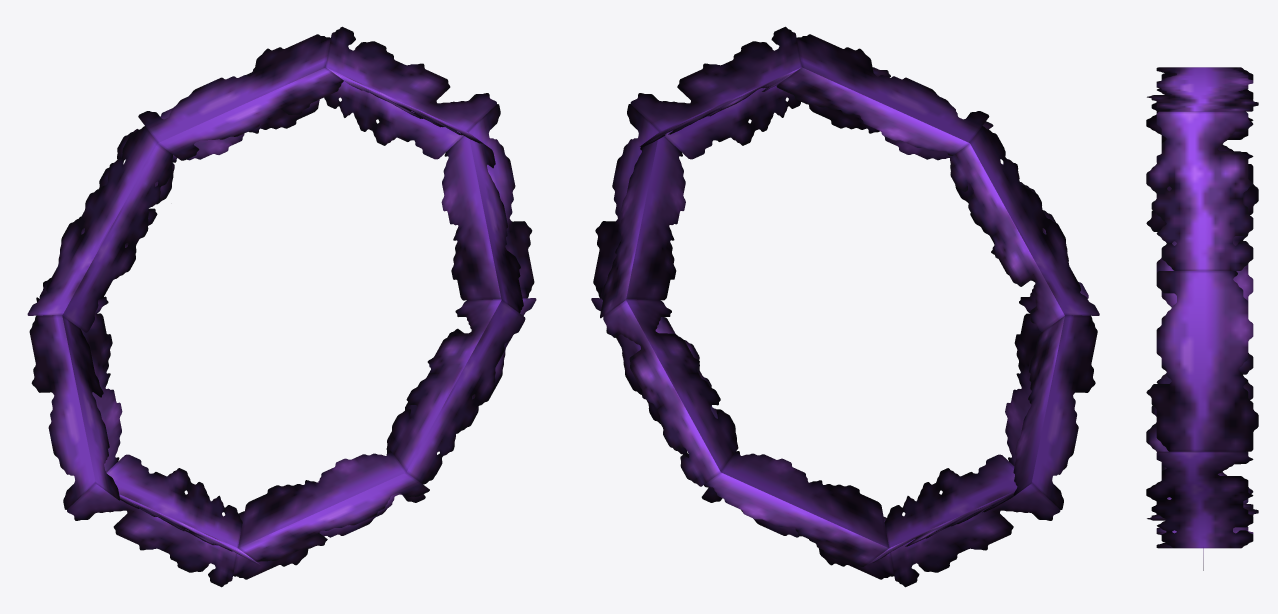
The picture shows the model from 3 angles, left to right: view 1: azimuth 30°, elevation 25°; view 2: azimuth 150°, elevation 25°; view 3: azimuth 270°, elevation 25°; orthographic projection. The views are drawn at different scales.
Visible parts, largest first — view 1: T1L4M007_16; view 2: T1L4M007_16; view 3: T1L4M007_16.
Boxes of the visible parts, <box> form: T1L4M007_16: <box>27,26,536,587</box>; T1L4M007_16: <box>591,26,1099,587</box>; T1L4M007_16: <box>1146,67,1258,570</box>.
Size of the model in its own units: 2.83 by 2.83 by 0.5957.
1 material, 1 textured.
